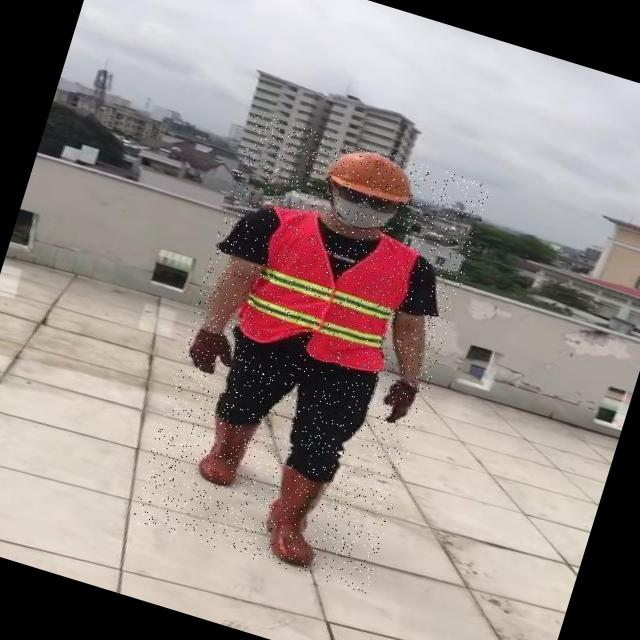hard_hat: (321, 138, 424, 210)
safety_vest: (233, 204, 417, 380)
vehicle: (130, 111, 492, 594)
work_boots: (254, 464, 340, 571), (193, 408, 260, 492)
